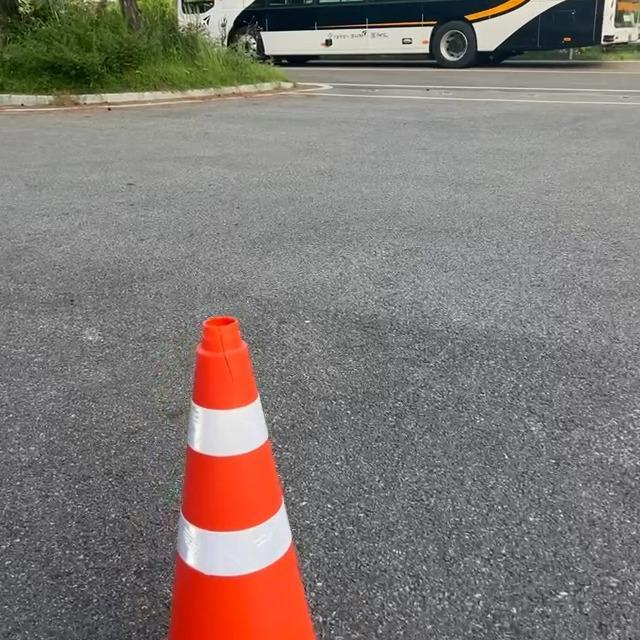fallen_object: (80, 290, 405, 640)
